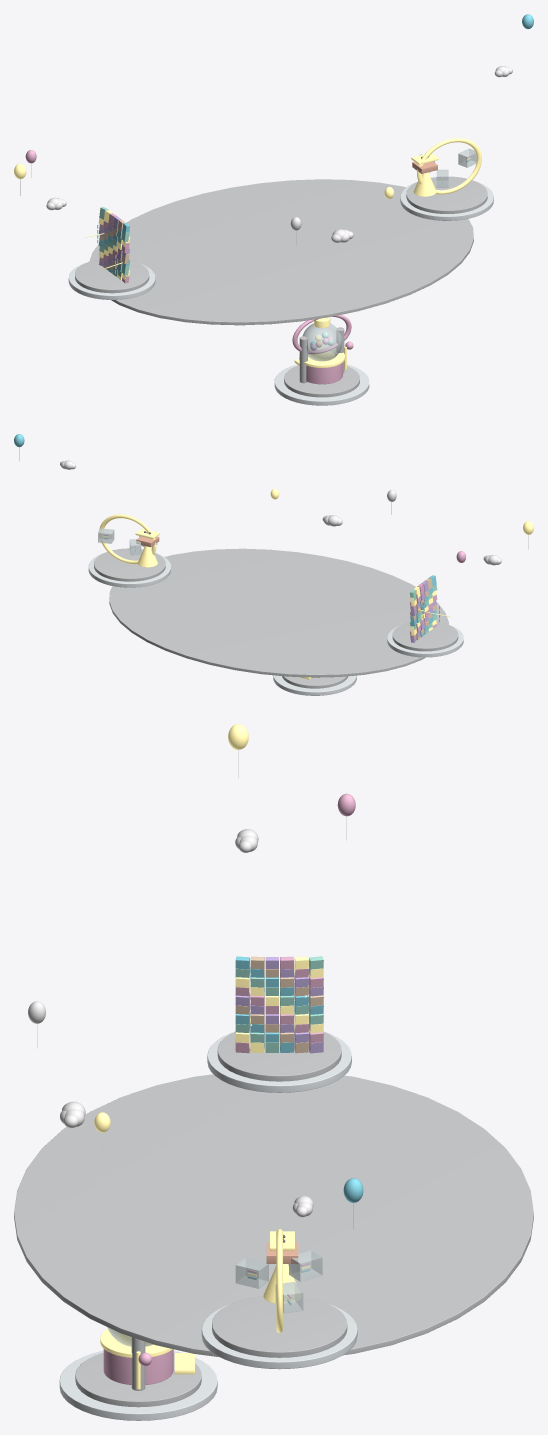
File: nemonic_zonepack_asset.glb
3 renders of one model, top to bottom at view 1: azimuth 30°, elevation 25°; view 2: azimuth 150°, elevation 25°; view 3: azimuth 270°, elevation 25°, orthographic. The views are drawn at different scales.
Parts seen in each view (by area): view 1: ZonePackFloor, RelayMid, CommunityMid, FortuneMid, FortuneBase, FortuneGlobe, RelayBase, CommunityBase, RelayTrack, FortuneMachineBase, FortuneMachineRim, FortuneArch; view 2: ZonePackFloor, RelayMid, CommunityMid, FortuneBase, RelayBase, CommunityBase, FortuneMid, RelayTrack; view 3: ZonePackFloor, RelayMid, CommunityMid, FortuneMid, FortuneBase, RelayBase, CommunityBase, FortuneMachineBase, FortuneMachineRim, RelayPod_2, RelayPod_1.
Part boxes in pixels (left/top/right/bottom): ZonePackFloor: left=89, top=179, right=473, bottom=325; RelayMid: left=406, top=176, right=487, bottom=213; CommunityMid: left=75, top=259, right=149, bottom=293; FortuneMid: left=284, top=365, right=359, bottom=397; FortuneBase: left=274, top=364, right=369, bottom=405; FortuneGlobe: left=302, top=323, right=342, bottom=361; RelayBase: left=400, top=181, right=493, bottom=220; CommunityBase: left=68, top=263, right=155, bottom=299; RelayTrack: left=417, top=138, right=481, bottom=194; FortuneMachineBase: left=306, top=362, right=342, bottom=384; FortuneMachineRim: left=299, top=347, right=344, bottom=367; FortuneArch: left=292, top=315, right=351, bottom=353; ZonePackFloor: left=109, top=548, right=448, bottom=677; RelayMid: left=94, top=548, right=165, bottom=581; CommunityMid: left=392, top=621, right=458, bottom=651; FortuneBase: left=273, top=675, right=356, bottom=695; RelayBase: left=88, top=553, right=170, bottom=587; CommunityBase: left=387, top=625, right=463, bottom=657; FortuneMid: left=282, top=676, right=347, bottom=688; RelayTrack: left=99, top=514, right=156, bottom=564; ZonePackFloor: left=14, top=1074, right=533, bottom=1357; RelayMid: left=212, top=1296, right=347, bottom=1357; CommunityMid: left=217, top=1023, right=341, bottom=1081; FortuneMid: left=75, top=1353, right=201, bottom=1407; FortuneBase: left=59, top=1350, right=217, bottom=1420; RelayBase: left=201, top=1304, right=357, bottom=1369; CommunityBase: left=207, top=1031, right=351, bottom=1092; FortuneMachineBase: left=103, top=1349, right=173, bottom=1384; FortuneMachineRim: left=100, top=1328, right=172, bottom=1357; RelayPod_2: left=235, top=1257, right=268, bottom=1288; RelayPod_1: left=289, top=1250, right=322, bottom=1281.
Bounding box in the file's own units: 18.82 × 8.65 × 9.22.
